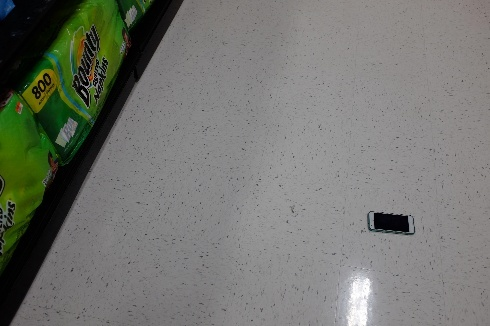phone: (368, 205, 417, 237)
